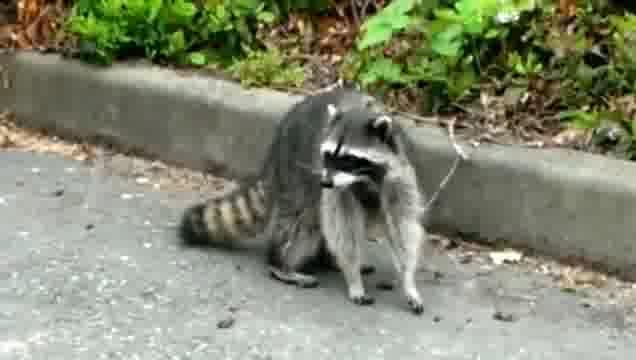raccoon: (180, 91, 427, 316)
